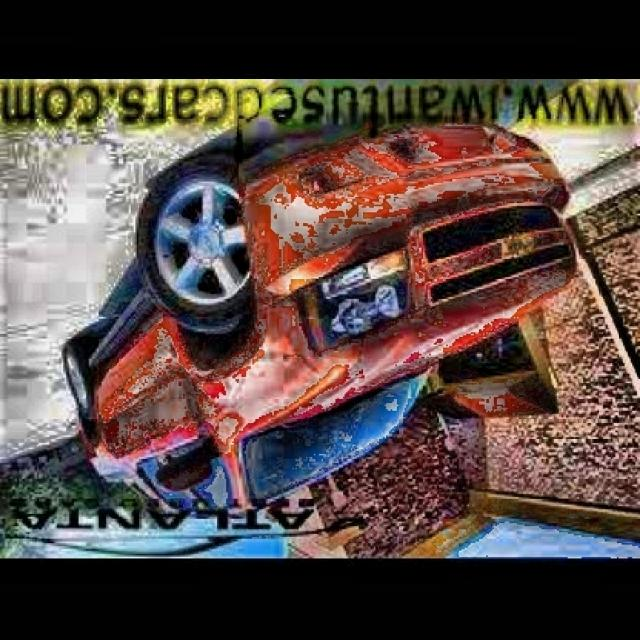maroon: (62, 123, 573, 517)
